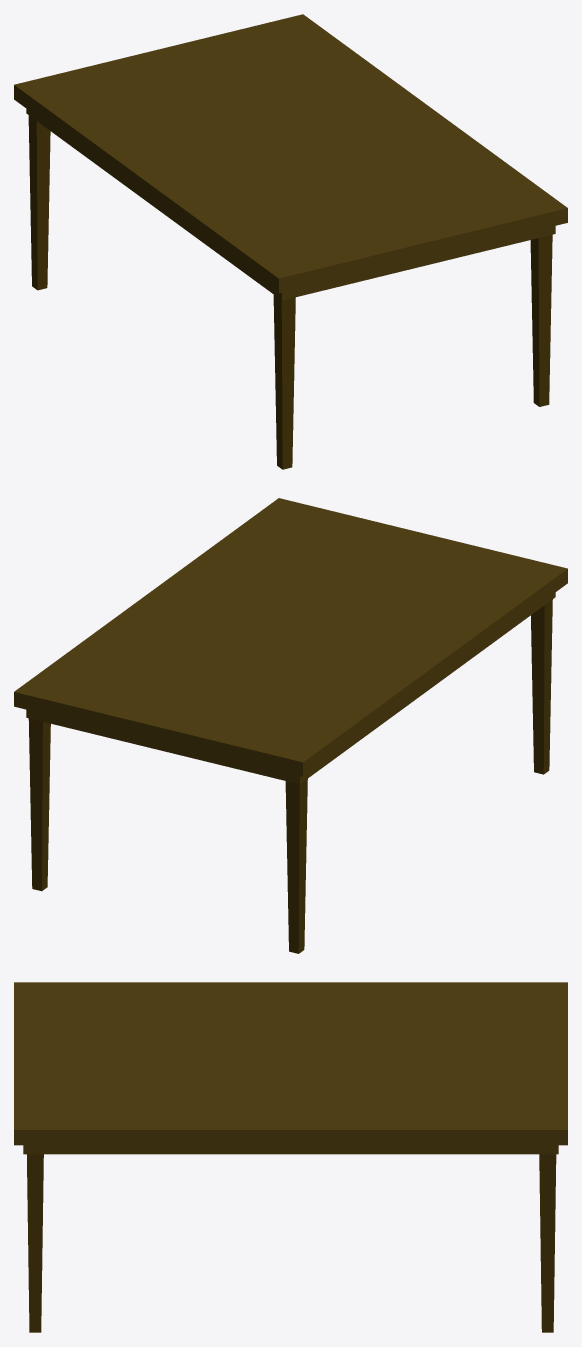
File: Table.fbx
3 views of the same model, one above another, from view 1: azimuth 30°, elevation 25°; view 2: azimuth 150°, elevation 25°; view 3: azimuth 270°, elevation 25° (orthographic). The views are drawn at different scales.
Parts seen in each view (by area): view 1: pCube13, pCube16, pCube17, pCube15; view 2: pCube13, pCube15, pCube14, pCube16; view 3: pCube13, pCube14, pCube17.
Boxes of the visible parts, x1=… form: pCube13: x1=14, y1=14, x2=567, y2=300; pCube16: x1=273, y1=295, x2=295, y2=469; pCube17: x1=530, y1=234, x2=552, y2=406; pCube15: x1=28, y1=115, x2=50, y2=290; pCube13: x1=14, y1=498, x2=567, y2=784; pCube15: x1=285, y1=779, x2=307, y2=953; pCube14: x1=28, y1=718, x2=50, y2=891; pCube16: x1=531, y1=599, x2=552, y2=774; pCube13: x1=14, y1=982, x2=567, y2=1154; pCube14: x1=539, y1=1154, x2=556, y2=1332; pCube17: x1=27, y1=1154, x2=43, y2=1332.
Size of the model in its own units: 1.73 by 1.14 by 2.75.
